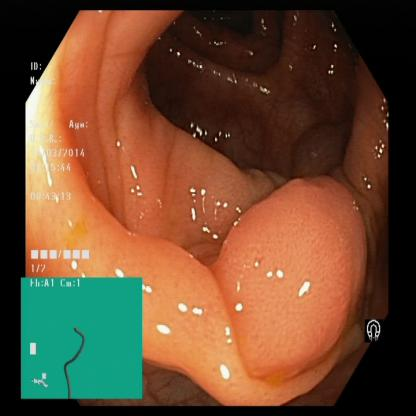Labels: (24, 57, 112, 279), (21, 278, 144, 401), (364, 317, 389, 343)
Polyps: (230, 178, 357, 368)
